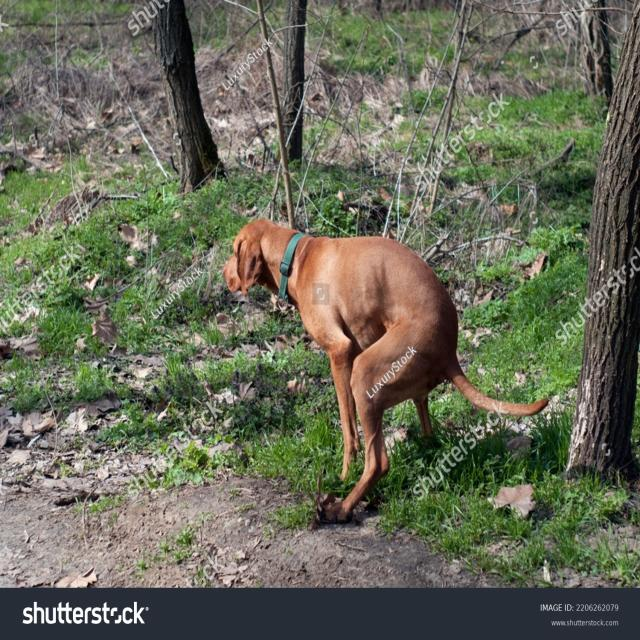Dogpoop: (222, 218, 569, 514)
